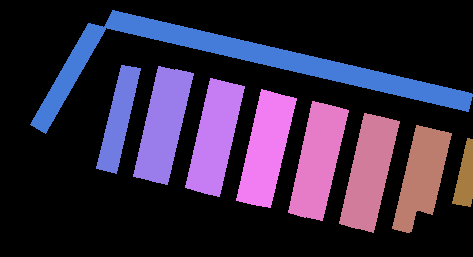parkingspot: (104, 10, 472, 111), (30, 23, 105, 133), (149, 69, 193, 184), (304, 105, 348, 220), (339, 113, 383, 228), (355, 117, 399, 232), (252, 94, 296, 207), (236, 89, 279, 204), (133, 66, 176, 180), (201, 82, 244, 196), (288, 101, 330, 217), (185, 78, 227, 192), (96, 65, 140, 173), (392, 125, 434, 232), (415, 129, 451, 214), (452, 138, 473, 206)
